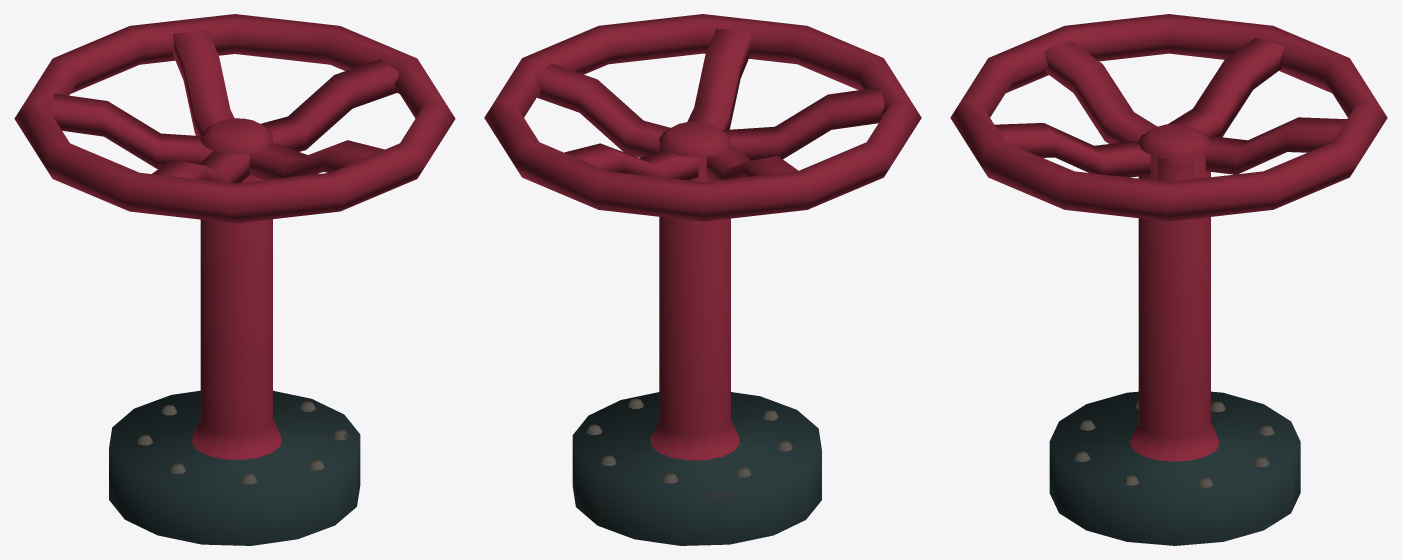
The model's file is Valve.fbx.
3 renders of one model, left to right at view 1: azimuth 30°, elevation 25°; view 2: azimuth 150°, elevation 25°; view 3: azimuth 270°, elevation 25°, orthographic.
Visible parts, largest first — view 1: Valve; view 2: Valve; view 3: Valve.
Boxes of the visible parts, x1,y1,x2,y2 form: Valve: (14, 14, 455, 545); Valve: (484, 14, 921, 545); Valve: (950, 14, 1387, 545).
Size of the model in its own units: 88 by 86.43 by 88.
